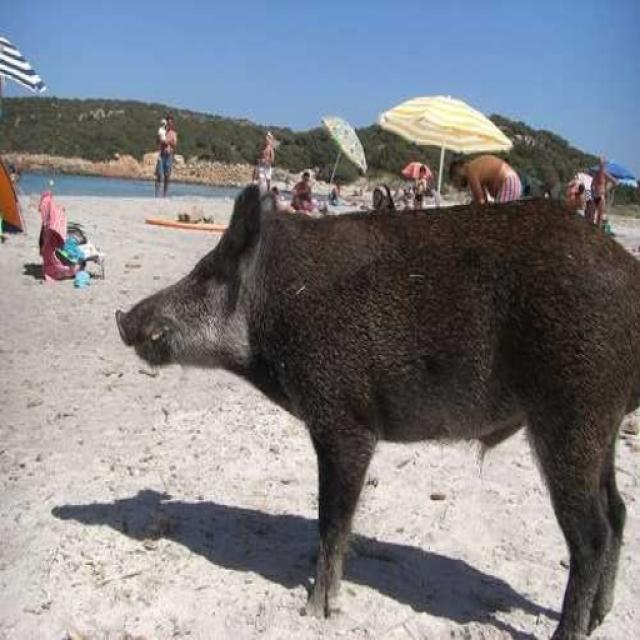pig: (108, 168, 640, 584)
